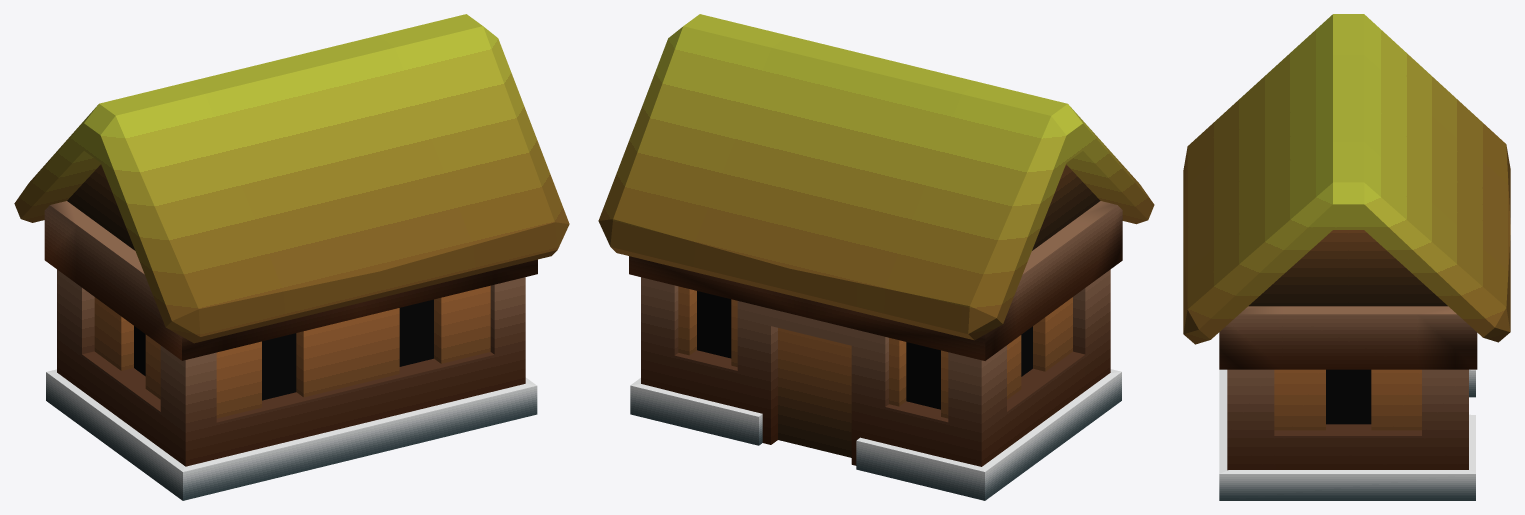
The model's file is farm_house_lvl2.fbx.
The picture shows the model from 3 angles, left to right: view 1: azimuth 30°, elevation 25°; view 2: azimuth 150°, elevation 25°; view 3: azimuth 270°, elevation 25°; orthographic projection. The views are drawn at different scales.
Visible parts, largest first — view 1: farm_house_lvl2.001; view 2: farm_house_lvl2.001; view 3: farm_house_lvl2.001.
Part boxes in pixels (x1,y1,x2,y2): farm_house_lvl2.001: (14,14,569,500); farm_house_lvl2.001: (598,14,1154,500); farm_house_lvl2.001: (1183,14,1510,500).
Size of the model in its own units: 0.3945 by 0.3246 by 0.2996.
